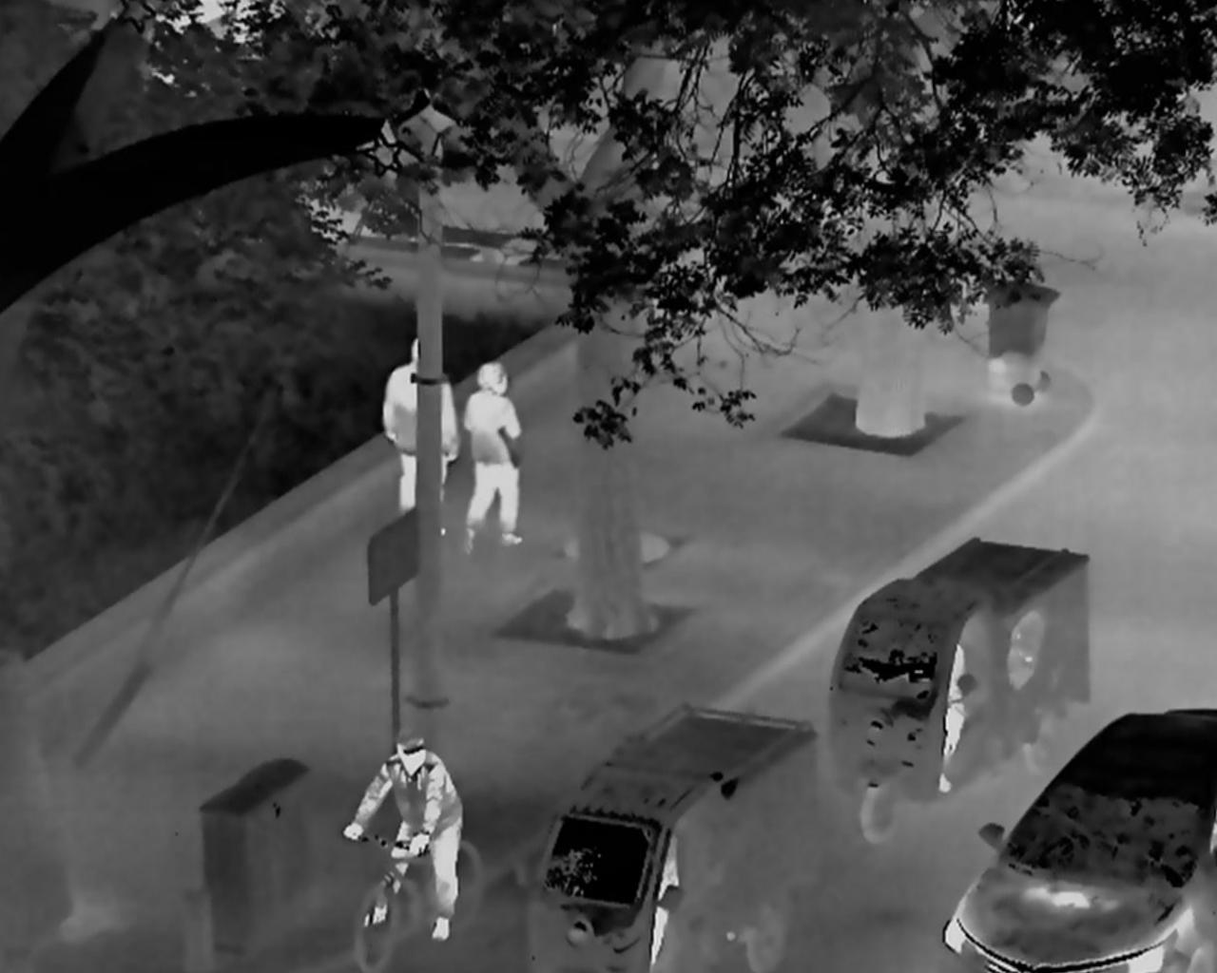person: (342, 725, 464, 943), (382, 337, 460, 536), (462, 360, 524, 554), (936, 641, 968, 793), (647, 833, 681, 967)
